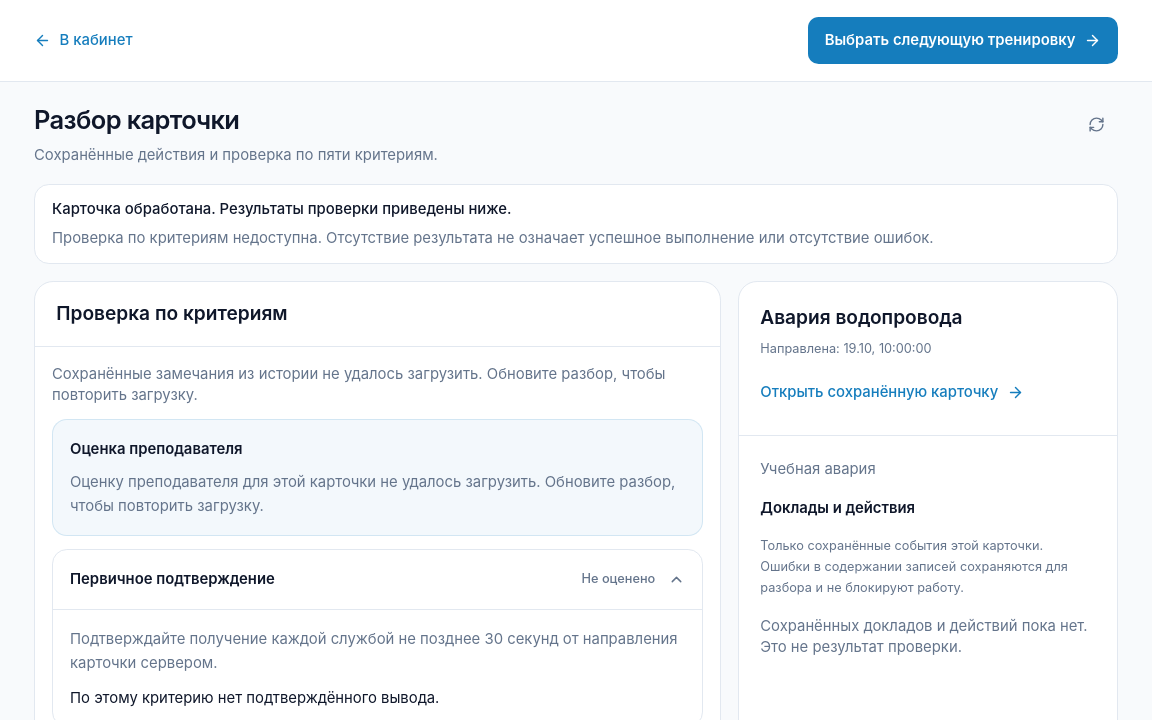
opens the existing next-training dialog lazily without starting a session
Expected: the text "Проверка по критериям недоступна" is shown, [52,229,934,247]
Click the button "Выбрать следующую тренировку" at (963, 40), box [808,17,1118,64]
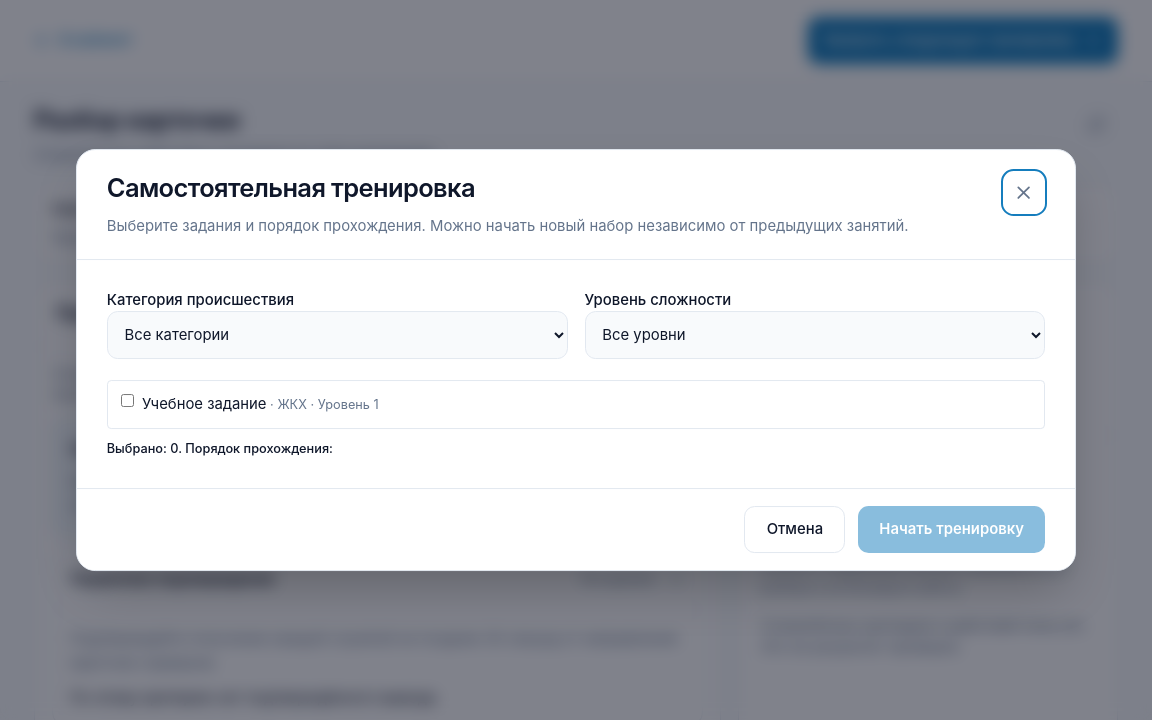
Expected: the checkbox labelled "Учебное задание · ЖКХ · Уровень 1" is shown, [120,394,134,407]
Expected: the dialog is shown, [76,149,1076,571]
